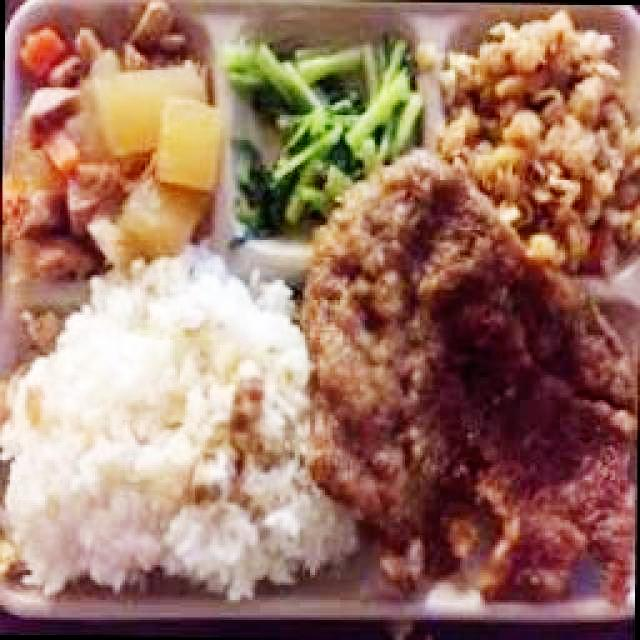fried_chicken: (302, 149, 639, 594)
rice: (10, 257, 314, 588), (306, 488, 330, 586), (332, 505, 360, 584)
water_spinach: (234, 33, 415, 147), (237, 148, 340, 203), (236, 204, 309, 246), (331, 149, 371, 176)
